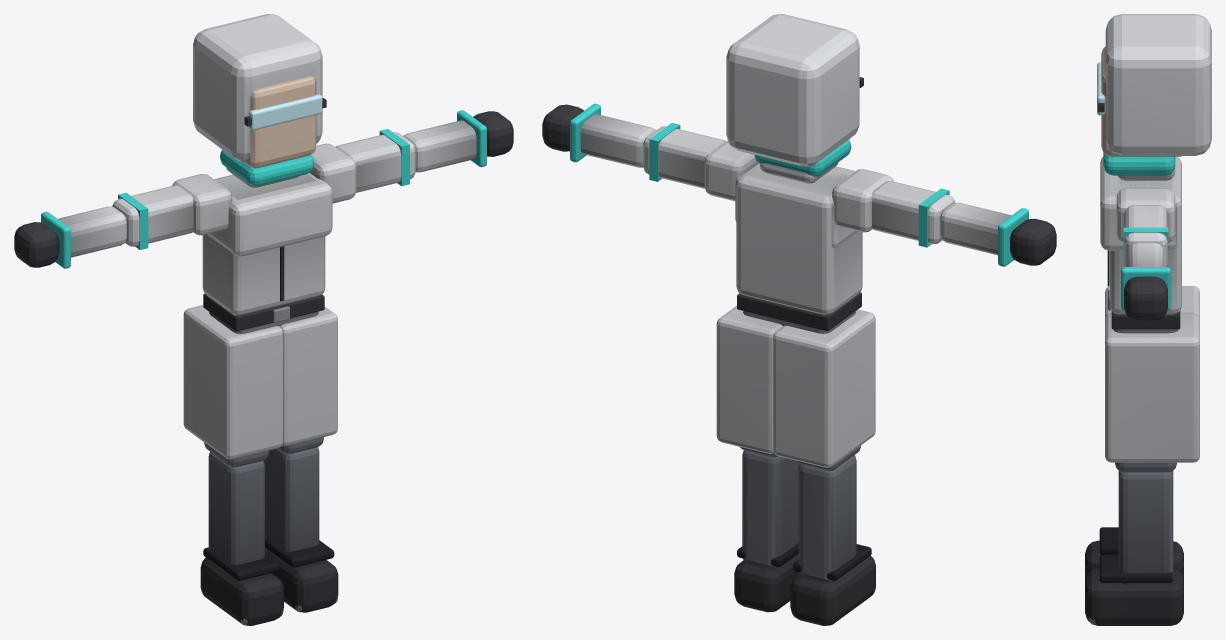
The model's file is yuna.glb.
3 renders of one model, left to right at view 1: azimuth 30°, elevation 25°; view 2: azimuth 150°, elevation 25°; view 3: azimuth 270°, elevation 25°, orthographic. The views are drawn at different scales.
Visible parts, largest first — view 1: Yuna_Sato; view 2: Yuna_Sato; view 3: Yuna_Sato.
Part boxes in pixels (x1=…): Yuna_Sato: x1=14, y1=14, x2=513, y2=625; Yuna_Sato: x1=542, y1=14, x2=1056, y2=625; Yuna_Sato: x1=1085, y1=14, x2=1211, y2=625.
Bounding box in the file's own units: 1.7 × 1.86 × 0.3722.
